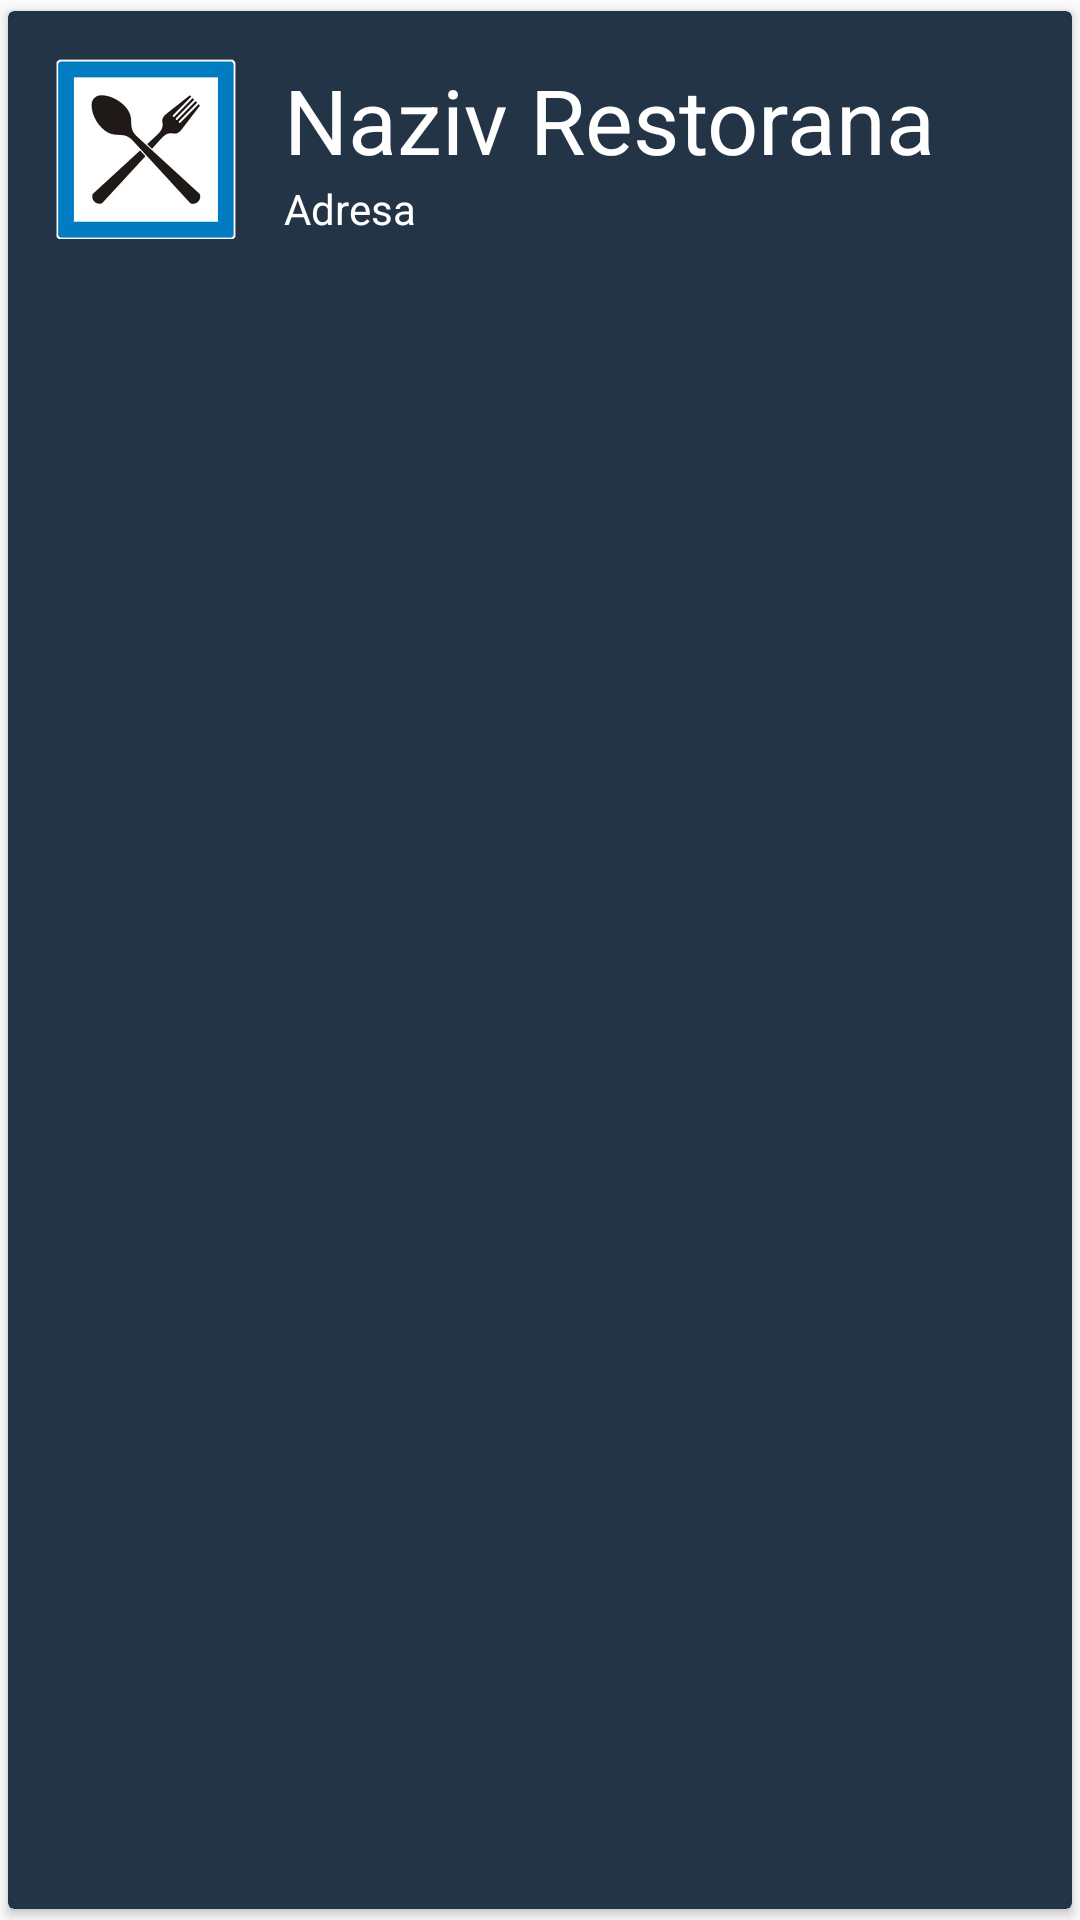

Locate icon controls on the screen. Image size 1080px x 1920px, boxes as [left=x1, top=y1, right=x2, bottom=y2].
restaurant: [left=56, top=59, right=236, bottom=239]
